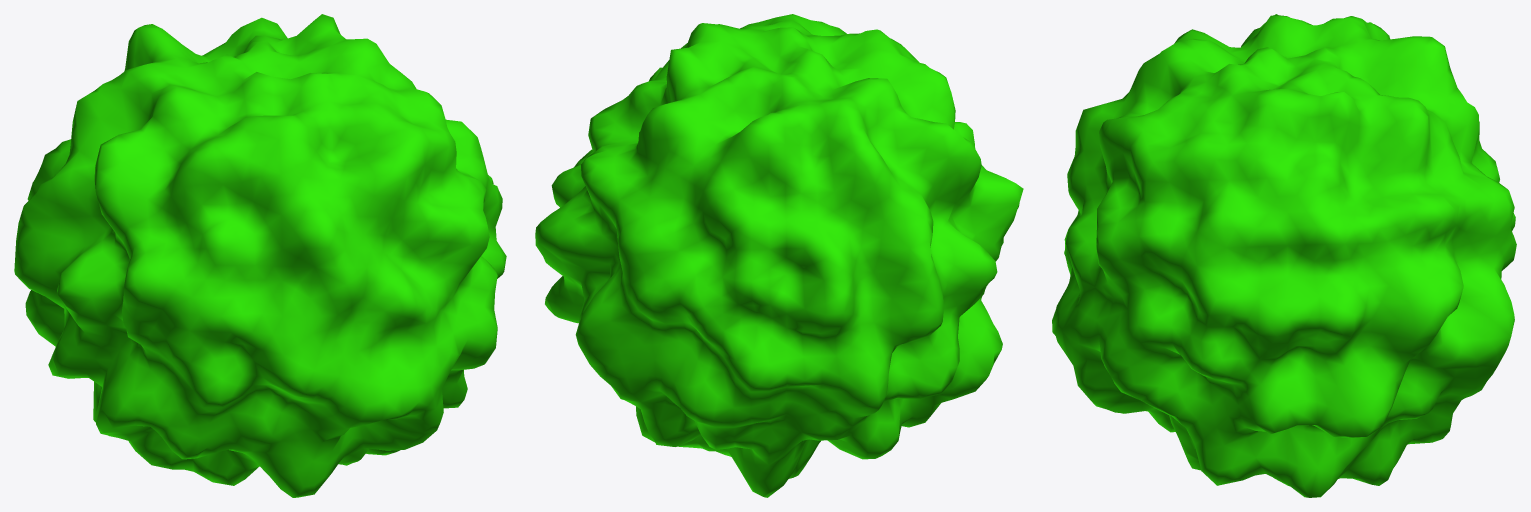
File: DisplacementAnimationNew.glb
3 views of the same model, side by side, from view 1: azimuth 30°, elevation 25°; view 2: azimuth 150°, elevation 25°; view 3: azimuth 270°, elevation 25° (orthographic). The views are drawn at different scales.
Parts seen in each view (by area): view 1: Icosphere; view 2: Icosphere; view 3: Icosphere.
Part boxes in pixels (<box>): Icosphere: <box>14,14,506,497</box>; Icosphere: <box>535,14,1023,497</box>; Icosphere: <box>1052,14,1516,497</box>.
Size of the model in its own units: 4.46 by 4.19 by 4.19.
